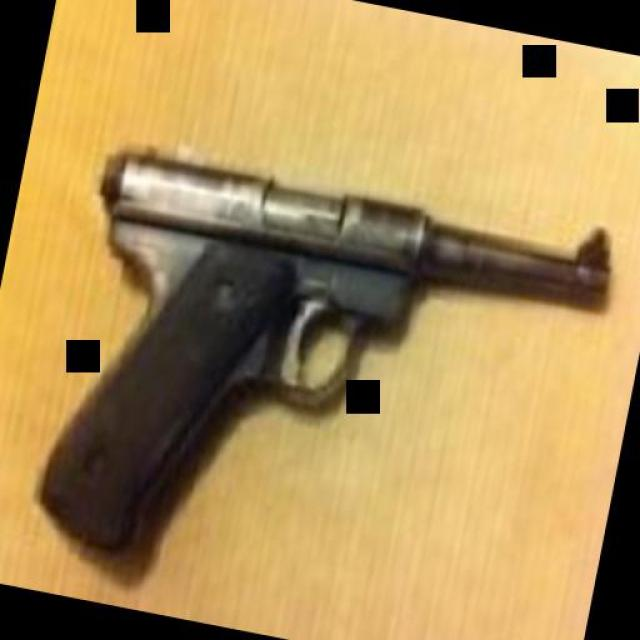gun: (15, 127, 636, 640)
